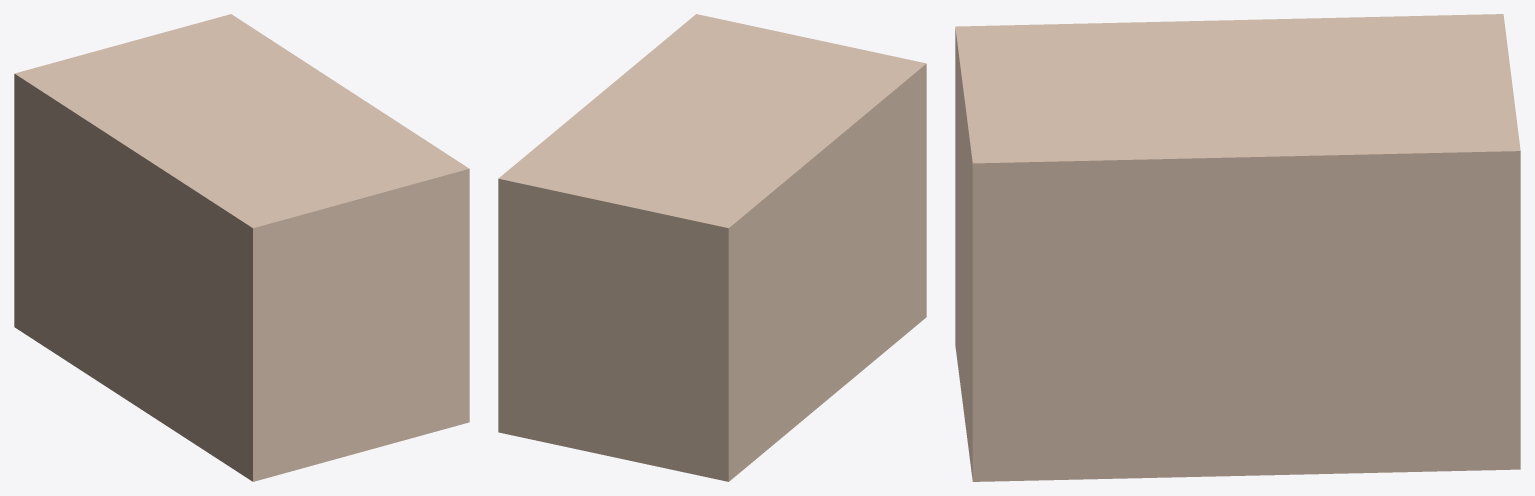
The picture shows the model from 3 angles, left to right: view 1: azimuth 30°, elevation 25°; view 2: azimuth 150°, elevation 25°; view 3: azimuth 270°, elevation 25°; orthographic projection. The views are drawn at different scales.
Parts seen in each view (by area): view 1: SM_79e0c4cdffd6b75e817c; view 2: SM_79e0c4cdffd6b75e817c; view 3: SM_79e0c4cdffd6b75e817c.
Part boxes in pixels (x1,y1,x2,y2): SM_79e0c4cdffd6b75e817c: (14,14,469,481); SM_79e0c4cdffd6b75e817c: (498,14,926,481); SM_79e0c4cdffd6b75e817c: (955,14,1520,481).
Bounding box in the file's own units: 12.07 × 19.3 × 12.
